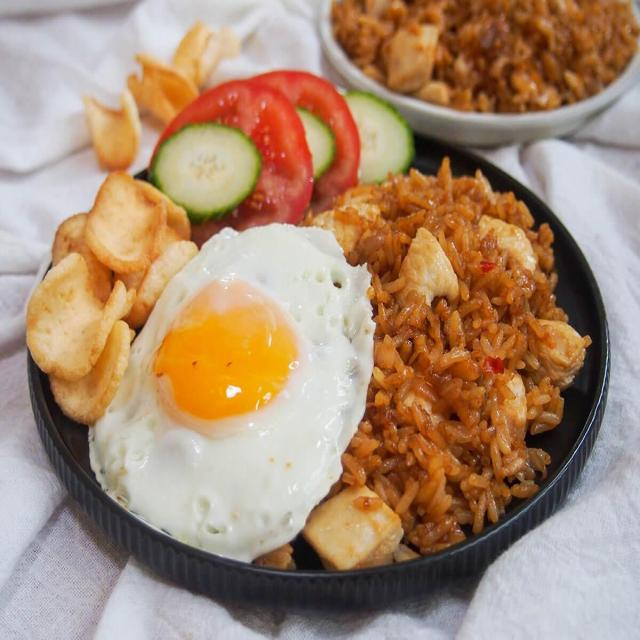Nasi Goreng: (87, 181, 564, 564)
